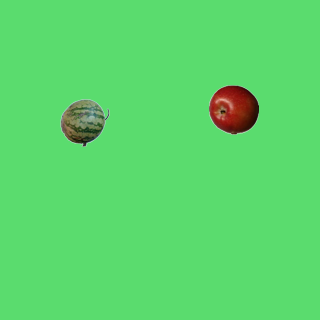Apple Braeburn: (208, 84, 258, 134)
Watermelon: (59, 97, 109, 147)
